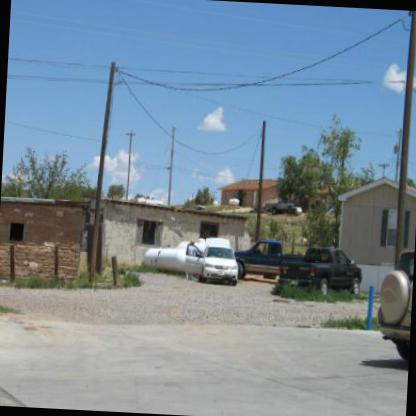truck: (230, 232, 302, 308), (276, 248, 368, 300), (264, 199, 300, 222), (131, 189, 169, 209)
